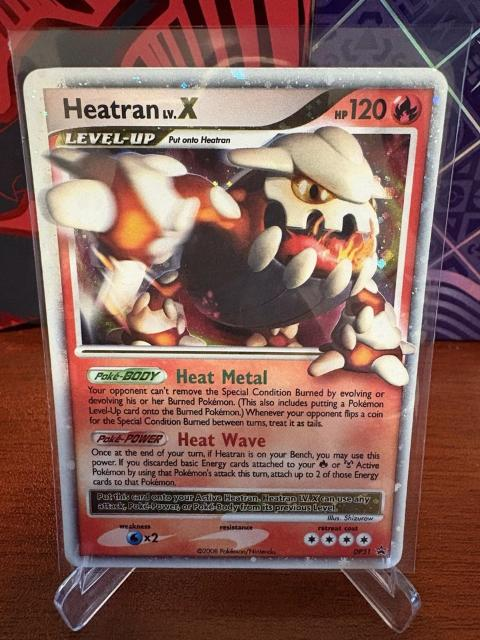Card: (20, 64, 453, 573)
Name: (60, 93, 202, 124)
